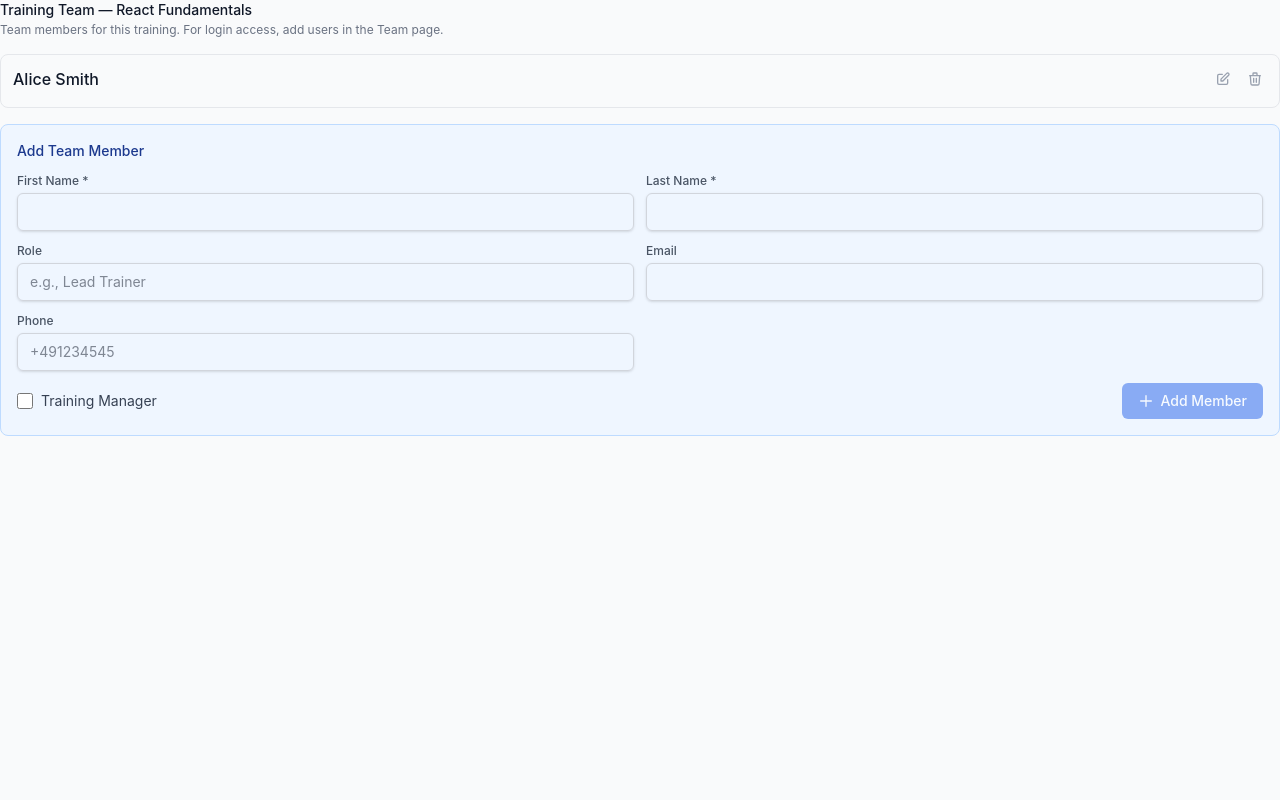
it: TrainingTeamTab › delete team member › shows confirm dialog when Remove button is clicked
Click the button titled "Remove" at (1255,79), box [1243, 67, 1267, 91]
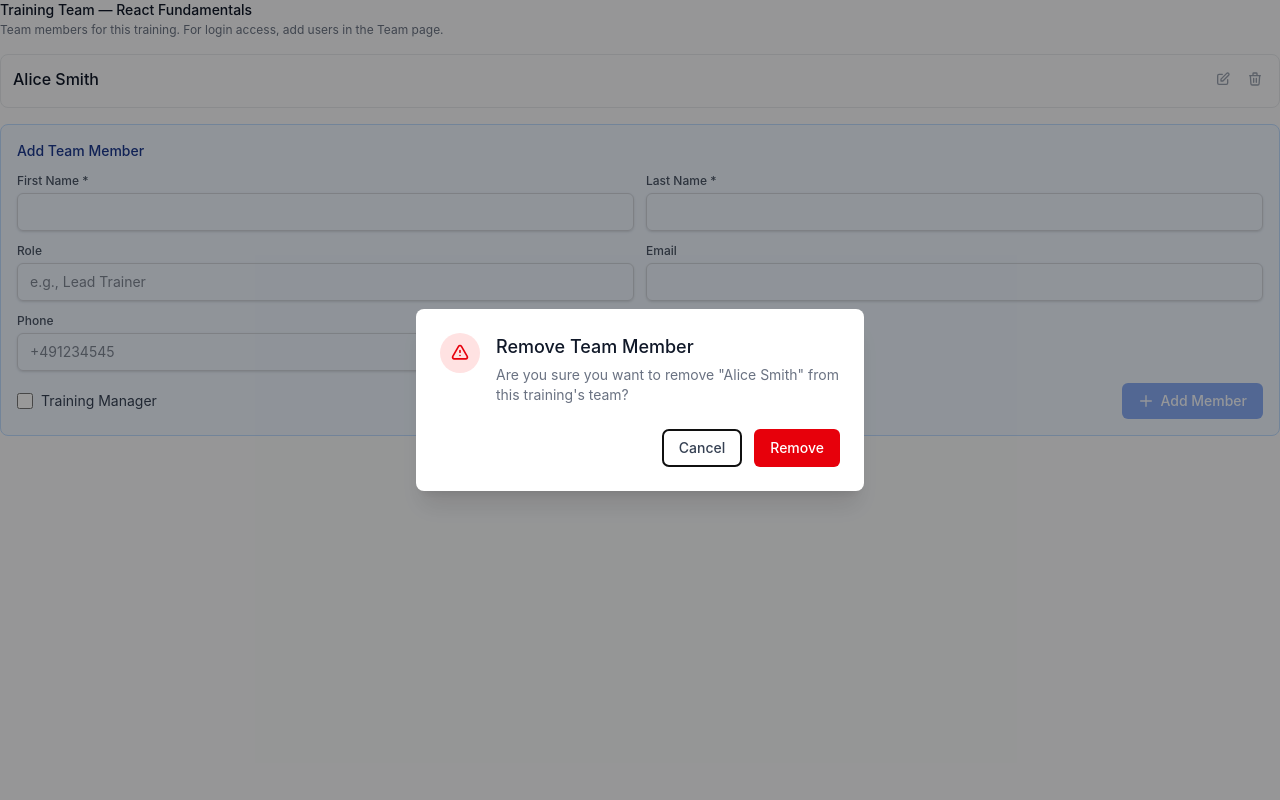
Expected: the heading "Remove Team Member" is shown, [496, 336, 694, 357]
Expected: the text "Are you sure you want to remove \"Alice Smith\" from this training's team?" is shown, [496, 365, 840, 405]
